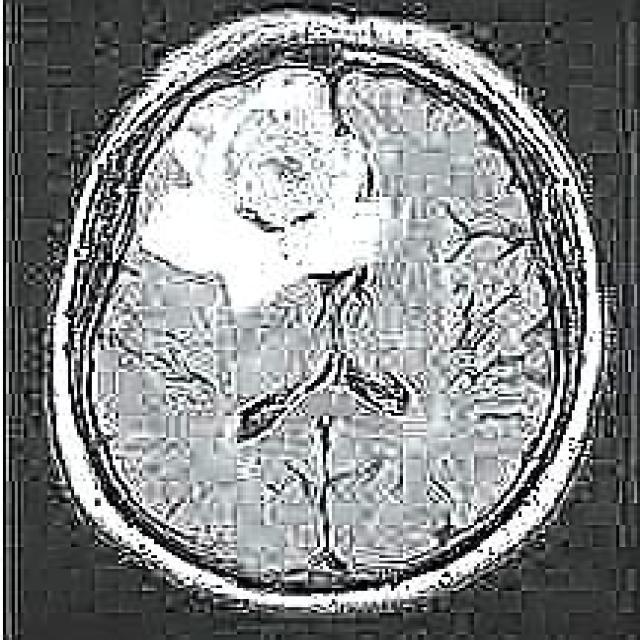brain tumor: (139, 74, 397, 306)
